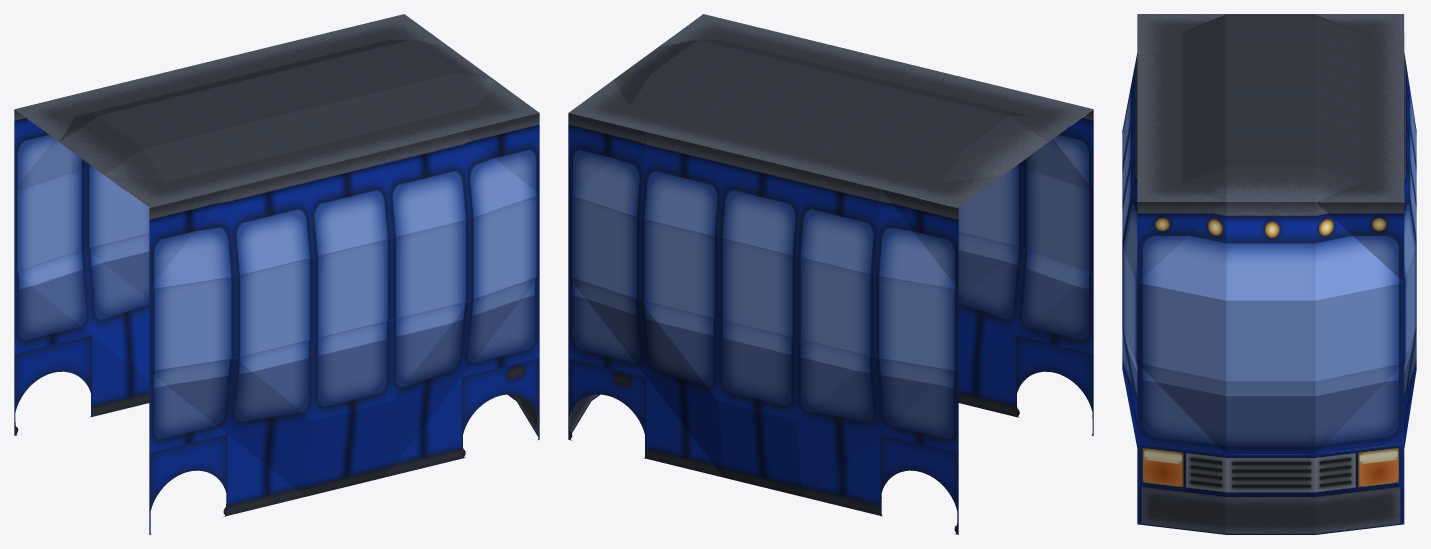
Rendered from bus.dae.
3 renders of one model, left to right at view 1: azimuth 30°, elevation 25°; view 2: azimuth 150°, elevation 25°; view 3: azimuth 270°, elevation 25°, orthographic.
Visible parts, largest first — view 1: Cube; view 2: Cube; view 3: Cube.
Part boxes in pixels (x1=…): Cube: x1=14, y1=14, x2=539, y2=534; Cube: x1=568, y1=14, x2=1093, y2=534; Cube: x1=1122, y1=14, x2=1416, y2=534.
Size of the model in its own units: 10.97 by 6.62 by 8.41.
1 material, 1 textured.
